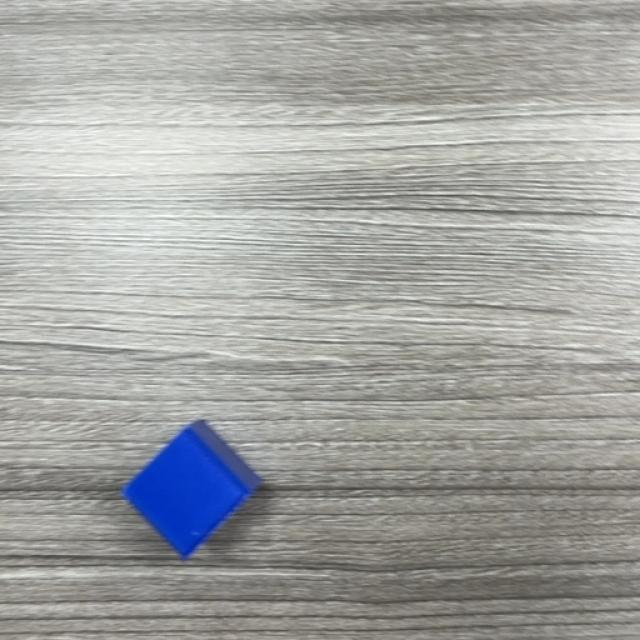Azul: (121, 420, 264, 561)
